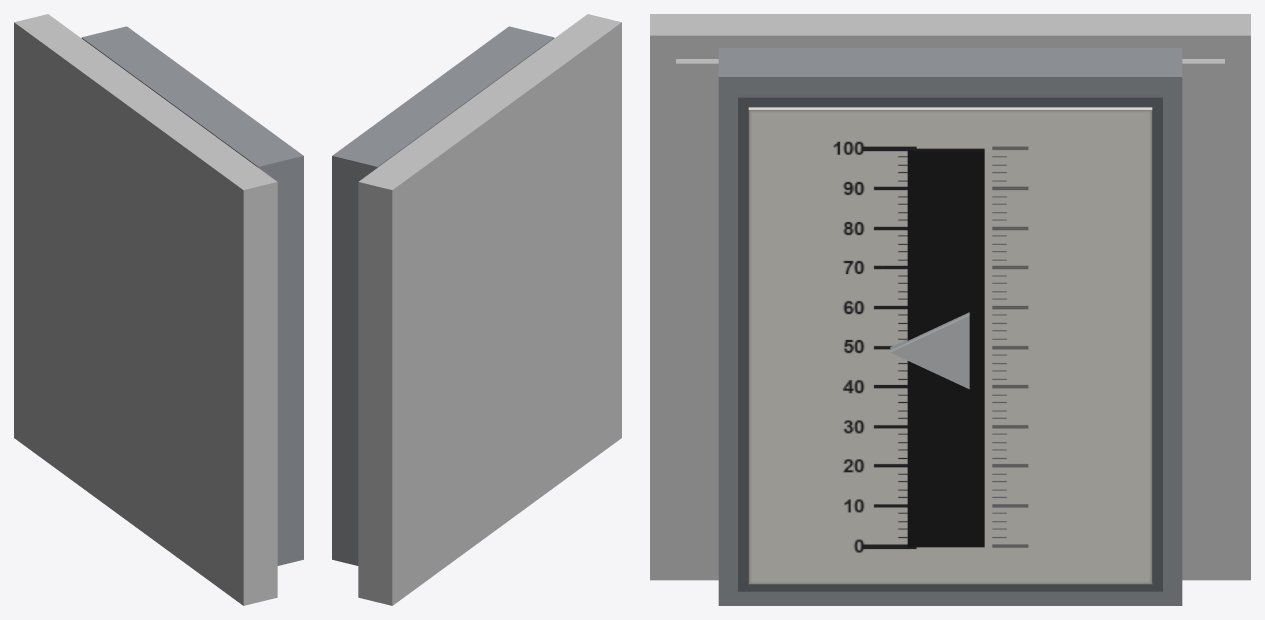
The model's file is gauge_v_surface.obj.
3 renders of one model, left to right at view 1: azimuth 30°, elevation 25°; view 2: azimuth 150°, elevation 25°; view 3: azimuth 270°, elevation 25°, orthographic. The views are drawn at different scales.
Parts seen in each view (by area): view 1: Panel, Frame; view 2: Panel, Frame; view 3: Face, Panel, Frame, Needle.
Part boxes in pixels (x1,y1,x2,y2): Panel: [14, 14, 277, 605]; Frame: [81, 26, 303, 565]; Panel: [358, 14, 621, 605]; Frame: [332, 26, 554, 565]; Face: [748, 107, 1152, 584]; Panel: [650, 14, 1250, 580]; Frame: [718, 48, 1182, 605]; Needle: [890, 312, 969, 389].
Size of the model in its own units: 0.2288 by 0.875 by 0.875.
